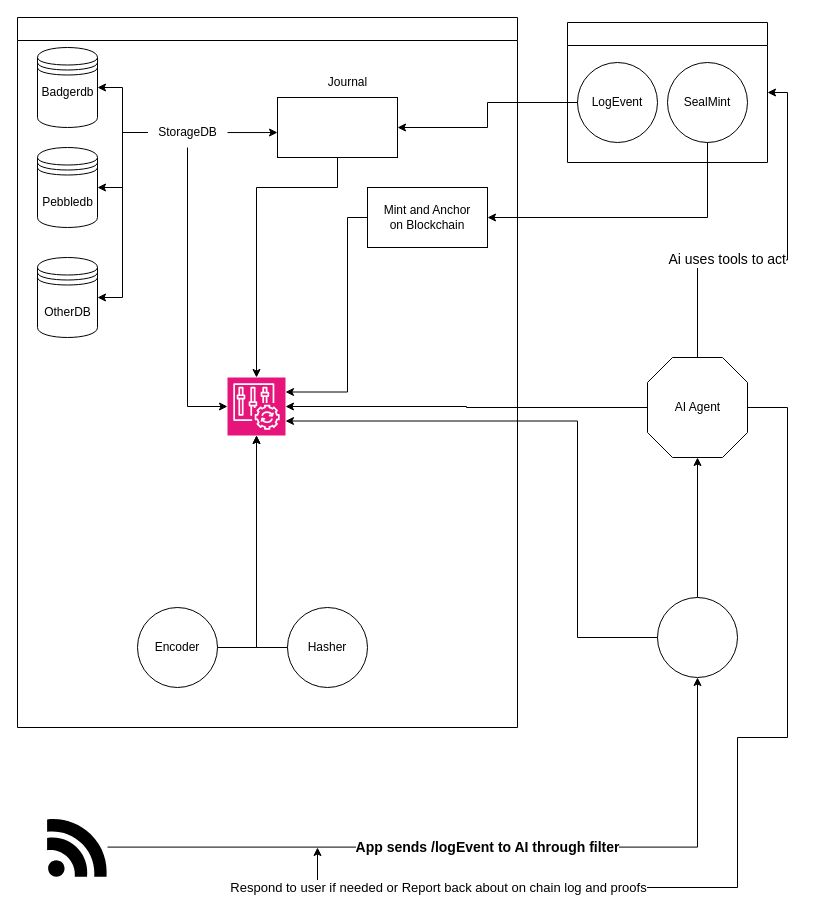
Image size: 813x913. Some labels were removed from this diagram. Here are the shapes that lost their labels. From the top down, the box of each, then its label:
(566, 22, 768, 162): Ai Default Tools
(276, 96, 398, 158): JournalCache
(16, 16, 518, 728): Internal
(656, 596, 738, 678): Filter
